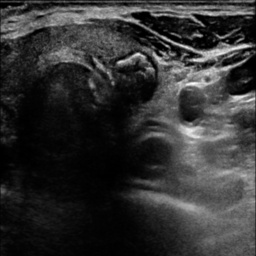mass: (111, 51, 159, 103)
